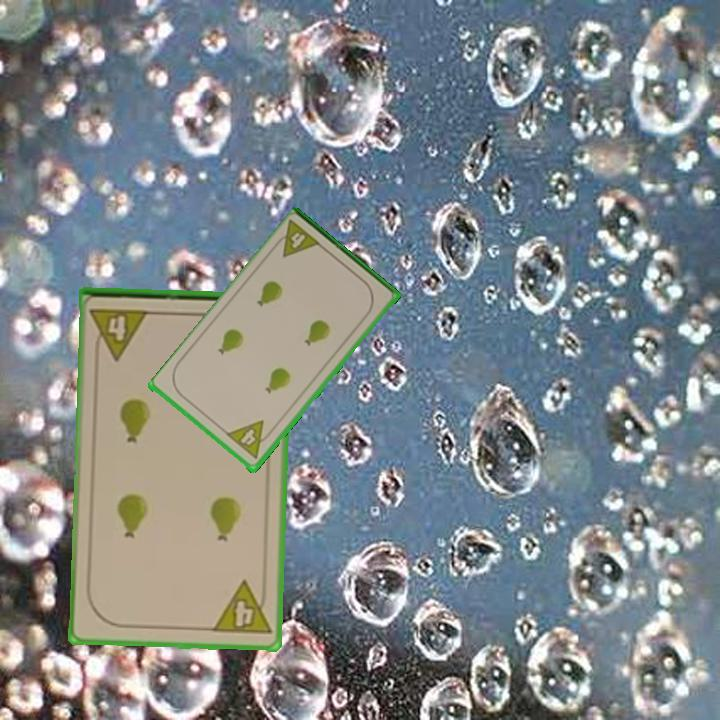4p: (209, 577, 274, 638), (87, 304, 152, 362), (269, 217, 324, 261), (223, 417, 276, 462)
